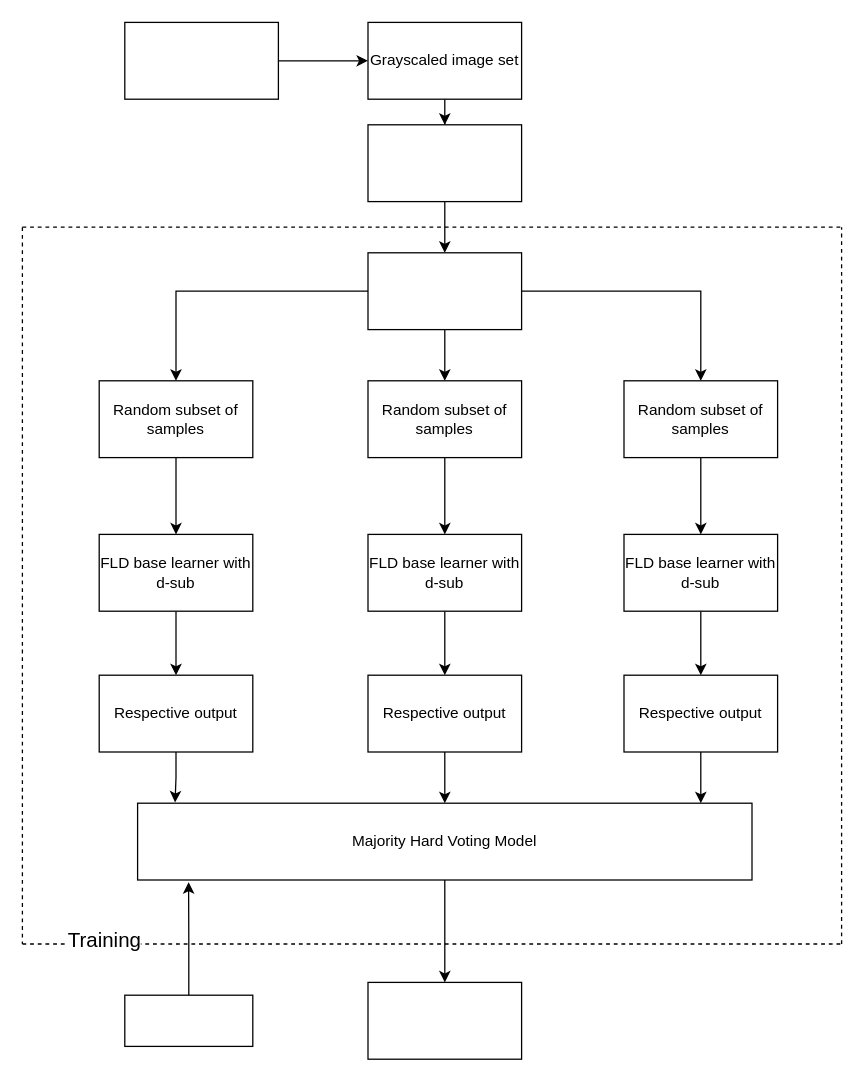
Some shapes in this 865 by 1082 pixel diagram are drawn without their labels. The shapes that lost their labels are listed below. From the top down, each one's centre as x and y in pixels, then its label:
At (201,60): "Image set".
At (444,163): "Feature extraction from JPEG coefficient [ccc300]".
At (444,291): "Bootstraping".
At (188,1020): "Input".
At (444,1020): "Find Result".
